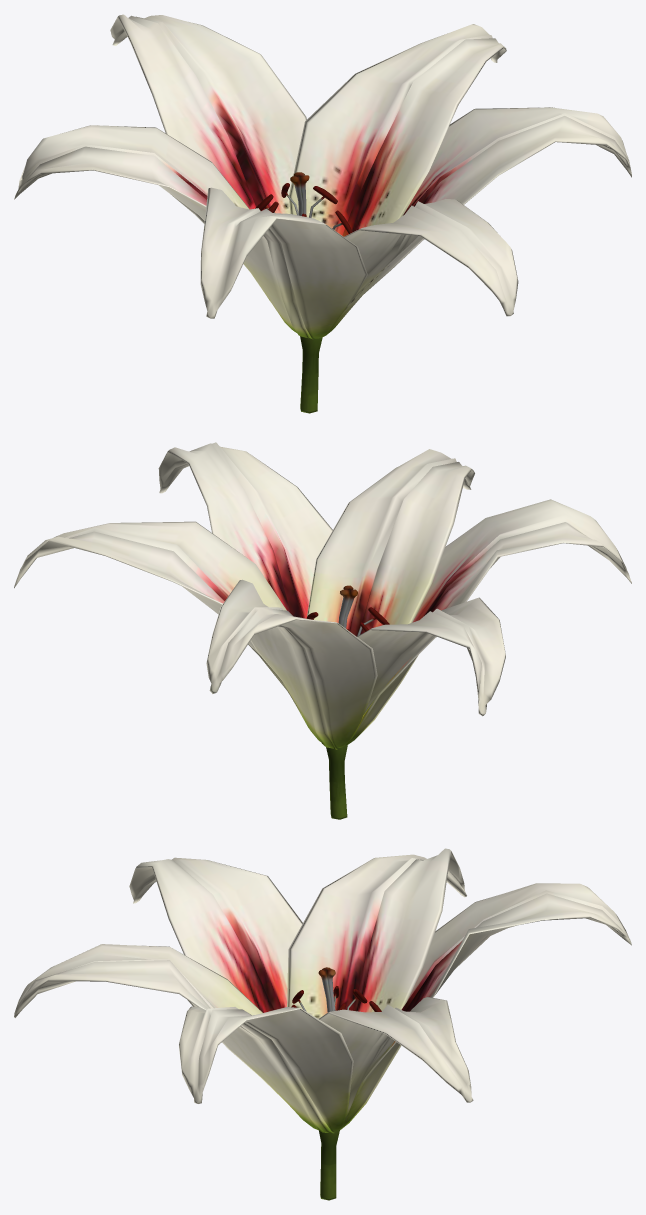
The picture shows the model from 3 angles, top to bottom: view 1: azimuth 30°, elevation 25°; view 2: azimuth 150°, elevation 25°; view 3: azimuth 270°, elevation 25°; orthographic projection. The views are drawn at different scales.
Parts seen in each view (by area): view 1: Lily_Flower.002; view 2: Lily_Flower.002; view 3: Lily_Flower.002.
Boxes of the visible parts, box(x1,y1,x2,y2) form: Lily_Flower.002: box(14, 14, 631, 413); Lily_Flower.002: box(14, 442, 631, 819); Lily_Flower.002: box(14, 848, 631, 1200).
Bounding box in the file's own units: 0.3434 × 0.2085 × 0.4018.
2 materials, 2 textured.
